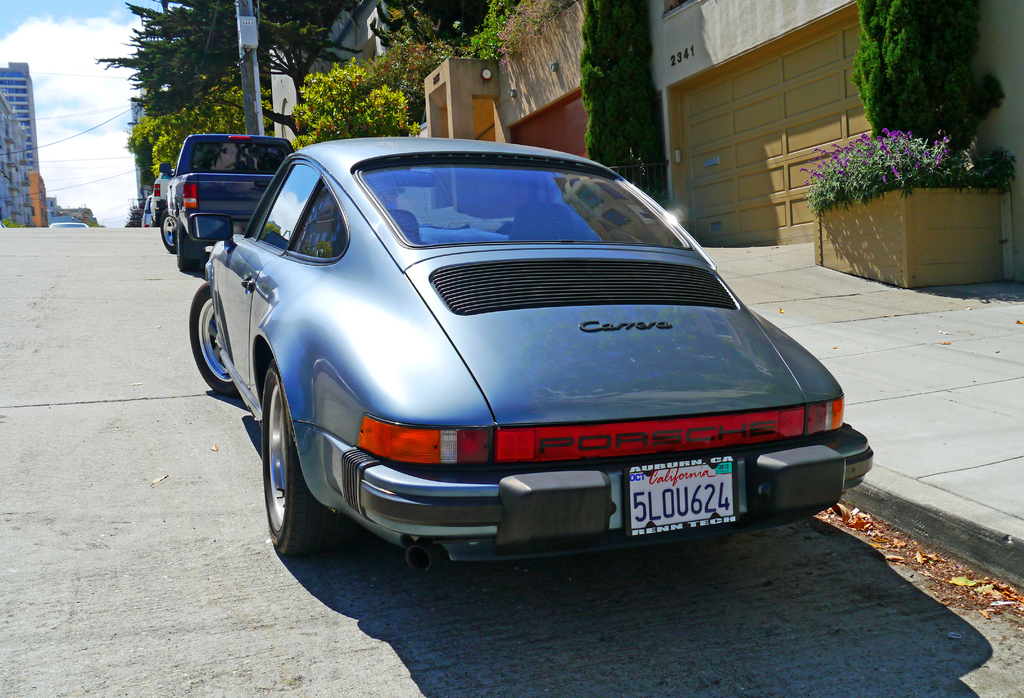Car: (141, 129, 880, 574), (49, 222, 88, 227)
